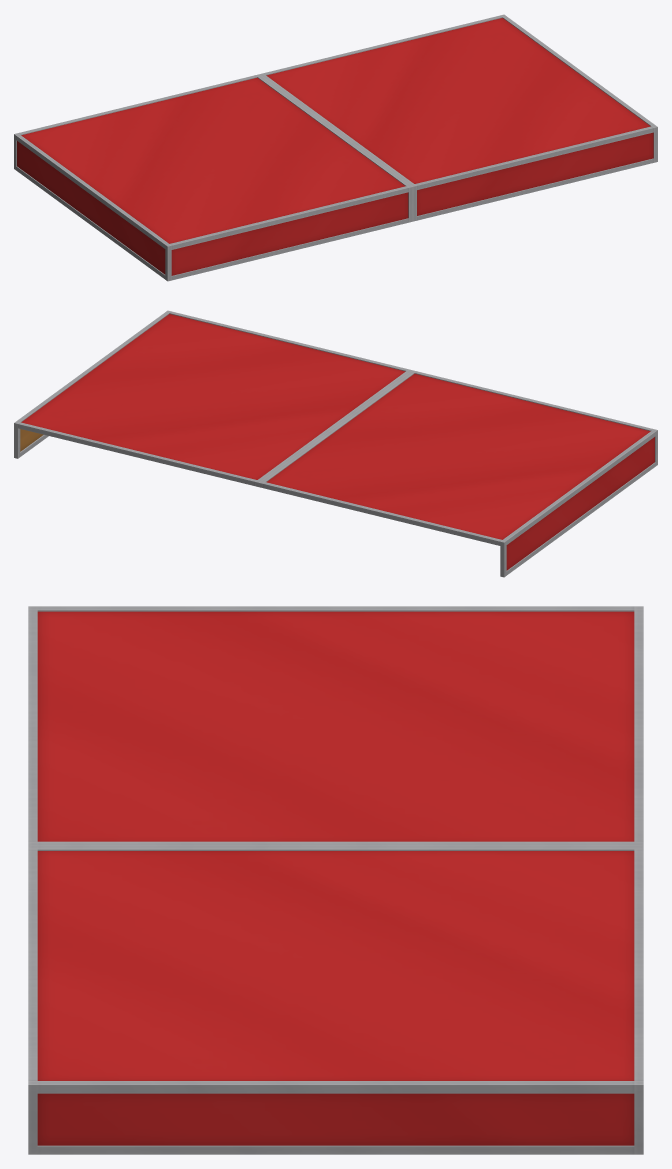
Rendered from jsf_2P_s01_c06_t01_DX.fbx.
3 renders of one model, top to bottom at view 1: azimuth 30°, elevation 25°; view 2: azimuth 150°, elevation 25°; view 3: azimuth 270°, elevation 25°, orthographic. The views are drawn at different scales.
Parts seen in each view (by area): view 1: jsf_2P_s01_c06_t01_DX; view 2: jsf_2P_s01_c06_t01_DX; view 3: jsf_2P_s01_c06_t01_DX.
Boxes of the visible parts, x1,y1,x2,y2 form: jsf_2P_s01_c06_t01_DX: (14, 14, 657, 281); jsf_2P_s01_c06_t01_DX: (14, 310, 657, 577); jsf_2P_s01_c06_t01_DX: (28, 606, 643, 1154).
Size of the model in its own units: 184 by 12.51 by 100.
